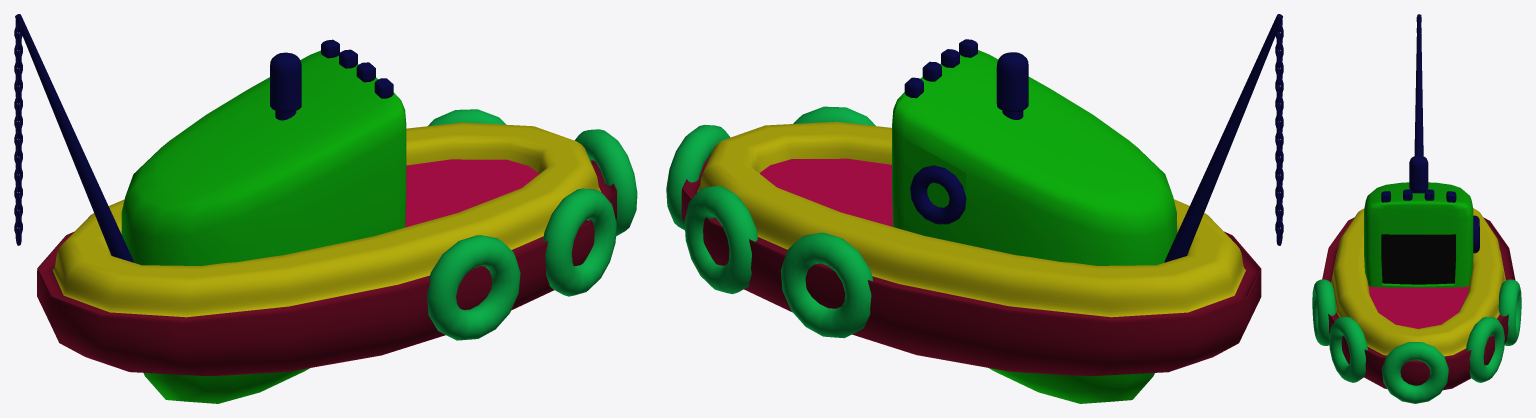
The model's file is GB_Ship_C_Fast.fbx.
3 views of the same model, side by side, from view 1: azimuth 30°, elevation 25°; view 2: azimuth 150°, elevation 25°; view 3: azimuth 270°, elevation 25° (orthographic). The views are drawn at different scales.
Parts seen in each view (by area): view 1: polySurface549; view 2: polySurface549; view 3: polySurface549.
Part boxes in pixels (left/top/right/bottom): polySurface549: left=14, top=14, right=637, bottom=403; polySurface549: left=666, top=14, right=1283, bottom=403; polySurface549: left=1312, top=14, right=1521, bottom=403.
Bounding box in the file's own units: 282 × 195 × 141.
